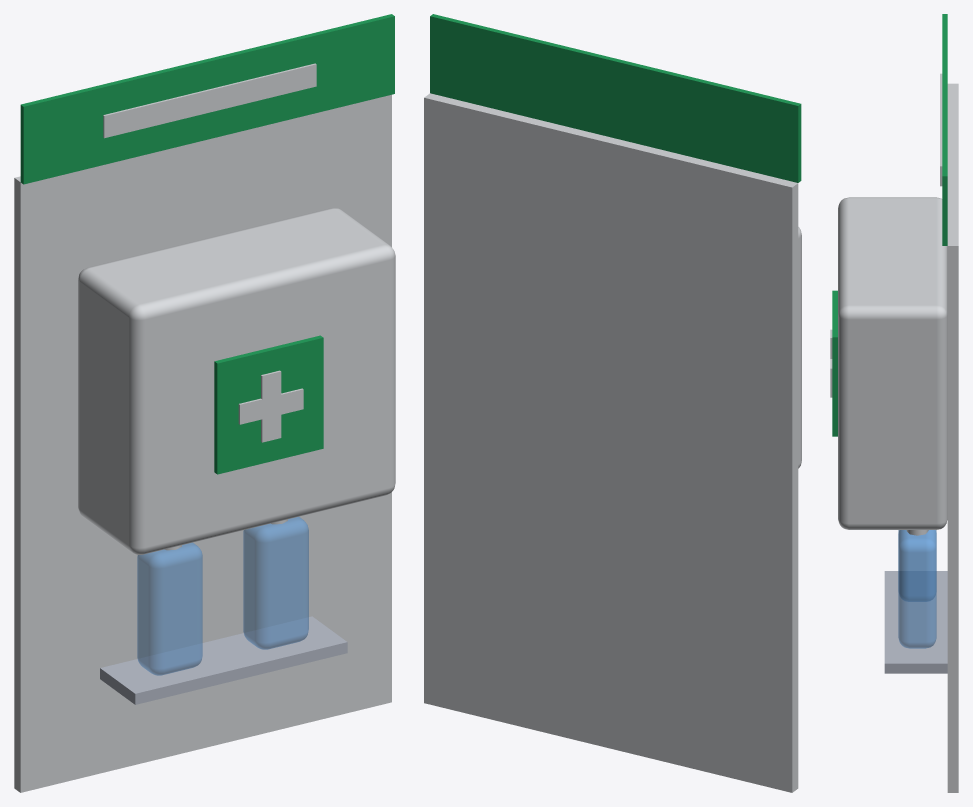
File: ame-012.glb
The picture shows the model from 3 angles, left to right: view 1: azimuth 30°, elevation 25°; view 2: azimuth 150°, elevation 25°; view 3: azimuth 270°, elevation 25°; orthographic projection. The views are drawn at different scales.
Visible parts, largest first — view 1: white, safety_green, water_blue, steel; view 2: white, safety_green; view 3: white, steel, water_blue, safety_green.
Part boxes in pixels (x1,y1,x2,y2): white: (14,63,395,792); safety_green: (20,14,394,474); water_blue: (137,517,308,675); steel: (100,616,347,704); white: (424,93,801,792); safety_green: (430,14,801,182); white: (830,73,958,792); steel: (884,571,947,673); water_blue: (898,530,936,648); safety_green: (832,14,947,436).
Size of the model in its own units: 0.7 by 1.24 by 0.234.
